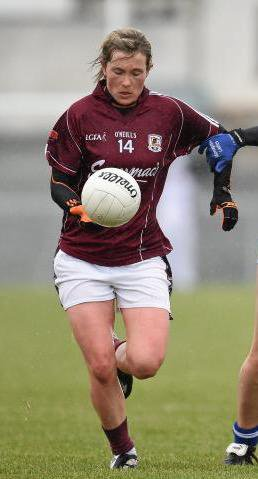ball: (79, 165, 144, 229)
player: (44, 25, 217, 468)
